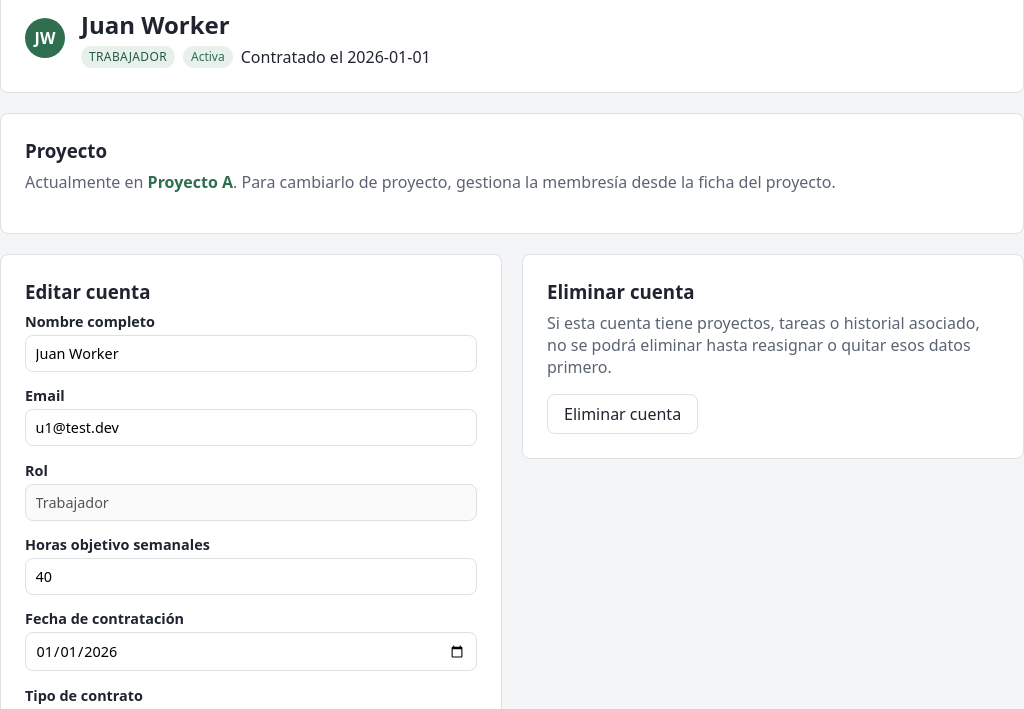
Test: AdminUserDetail › guarda los cambios del formulario de edición
Expected: the heading "Juan Worker" is shown, [81,8,230,41]
Replace the text in the field labelled "Nombre completo" with "Juan Editado" at (251, 353), box [25,335,477,372]
(page scrolled)
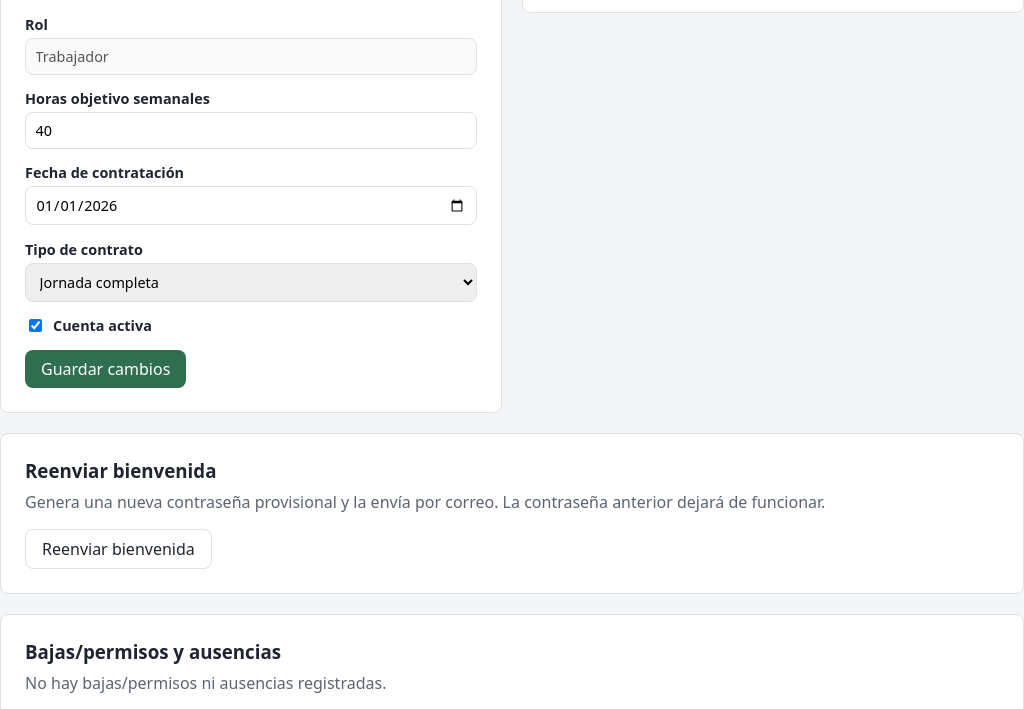
Click the checkbox labelled "Cuenta activa" at (36, 326), box [29,319,42,332]
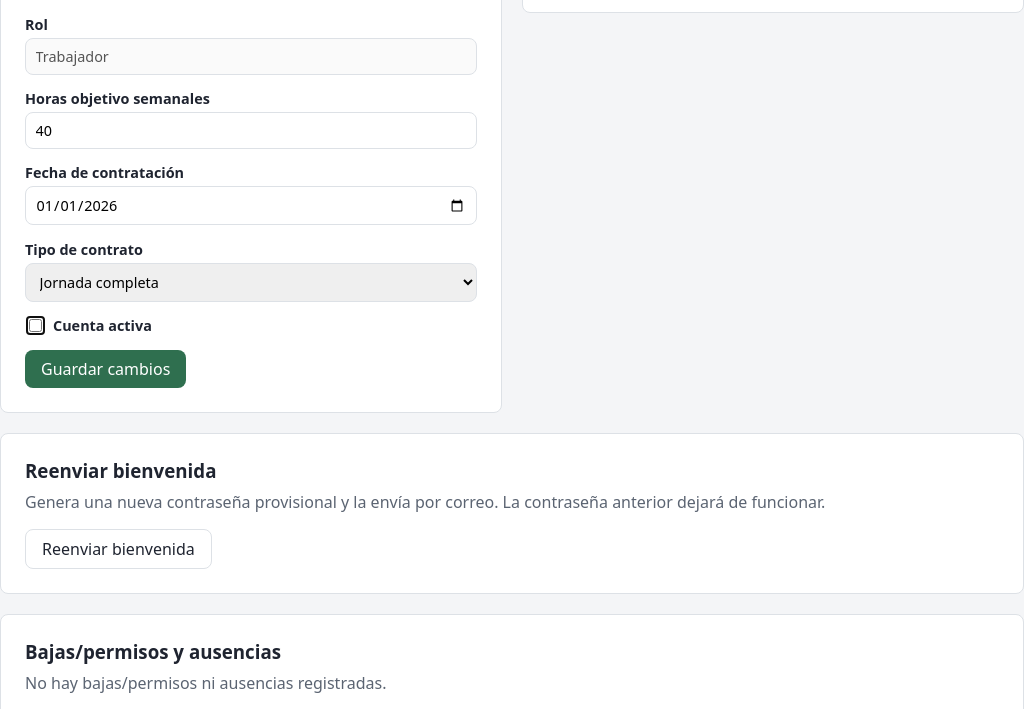
Click the button "Guardar cambios" at (106, 368), box [25,350,186,388]
(page scrolled)
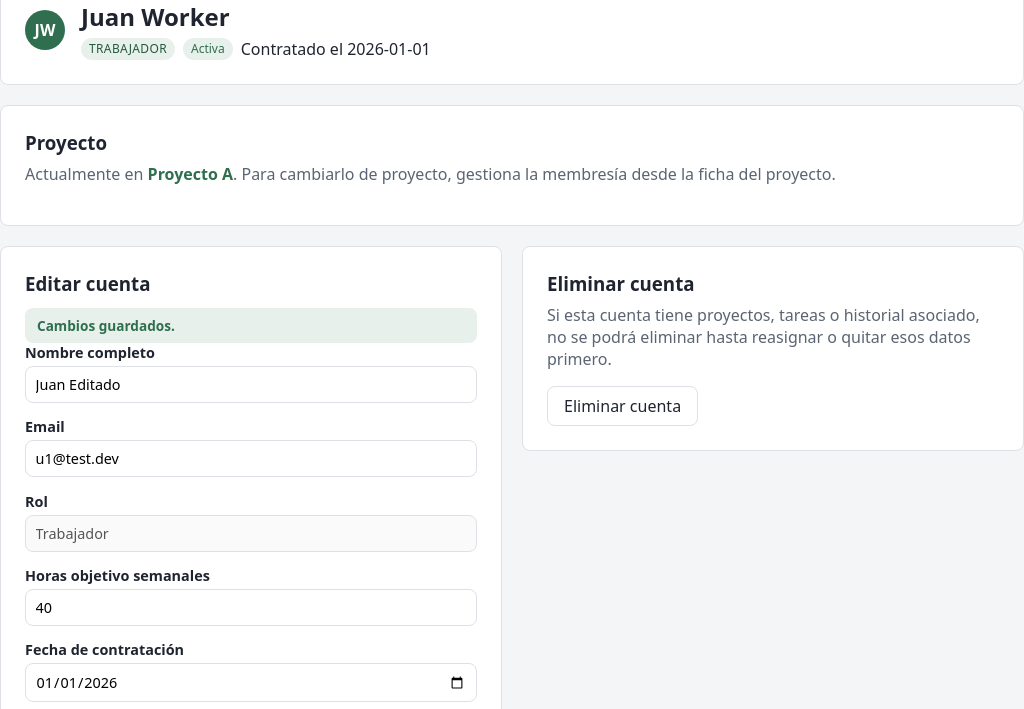
Now the text "Cambios guardados." is shown, box [25,308,477,343]
